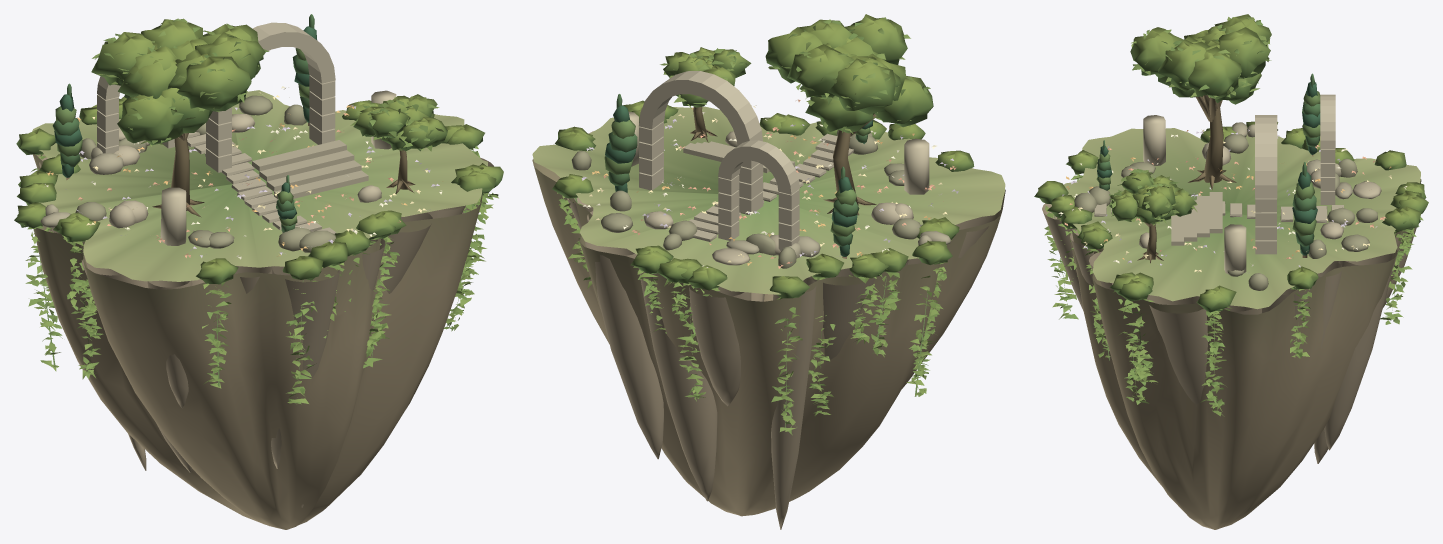
File: ruins-distant.glb
3 views of the same model, side by side, from view 1: azimuth 30°, elevation 25°; view 2: azimuth 150°, elevation 25°; view 3: azimuth 270°, elevation 25° (orthographic). The views are drawn at different scales.
Parts seen in each view (by area): view 1: ruins_fixed_Warm limestone_distant, ruins_fixed_Garden foliage_distant, ruins_fixed_Flower petals_distant, ruins_fixed_Oiled cedar_distant; view 2: ruins_fixed_Warm limestone_distant, ruins_fixed_Garden foliage_distant, ruins_fixed_Flower petals_distant, ruins_fixed_Oiled cedar_distant; view 3: ruins_fixed_Warm limestone_distant, ruins_fixed_Garden foliage_distant, ruins_fixed_Oiled cedar_distant, ruins_fixed_Flower petals_distant.
Part boxes in pixels (x1=…): ruins_fixed_Warm limestone_distant: x1=32, y1=22, x2=493, y2=529; ruins_fixed_Garden foliage_distant: x1=14, y1=14, x2=503, y2=404; ruins_fixed_Flower petals_distant: x1=44, y1=86, x2=442, y2=259; ruins_fixed_Oiled cedar_distant: x1=66, y1=122, x2=415, y2=217; ruins_fixed_Warm limestone_distant: x1=532, y1=71, x2=1005, y2=529; ruins_fixed_Garden foliage_distant: x1=532, y1=14, x2=1005, y2=435; ruins_fixed_Flower petals_distant: x1=581, y1=99, x2=958, y2=268; ruins_fixed_Oiled cedar_distant: x1=690, y1=107, x2=876, y2=258; ruins_fixed_Warm limestone_distant: x1=1042, y1=94, x2=1421, y2=529; ruins_fixed_Garden foliage_distant: x1=1034, y1=14, x2=1428, y2=416; ruins_fixed_Oiled cedar_distant: x1=1137, y1=95, x2=1313, y2=263; ruins_fixed_Flower petals_distant: x1=1058, y1=129, x2=1407, y2=272.
Bounding box in the file's own units: 11.5 × 12.99 × 10.24.
